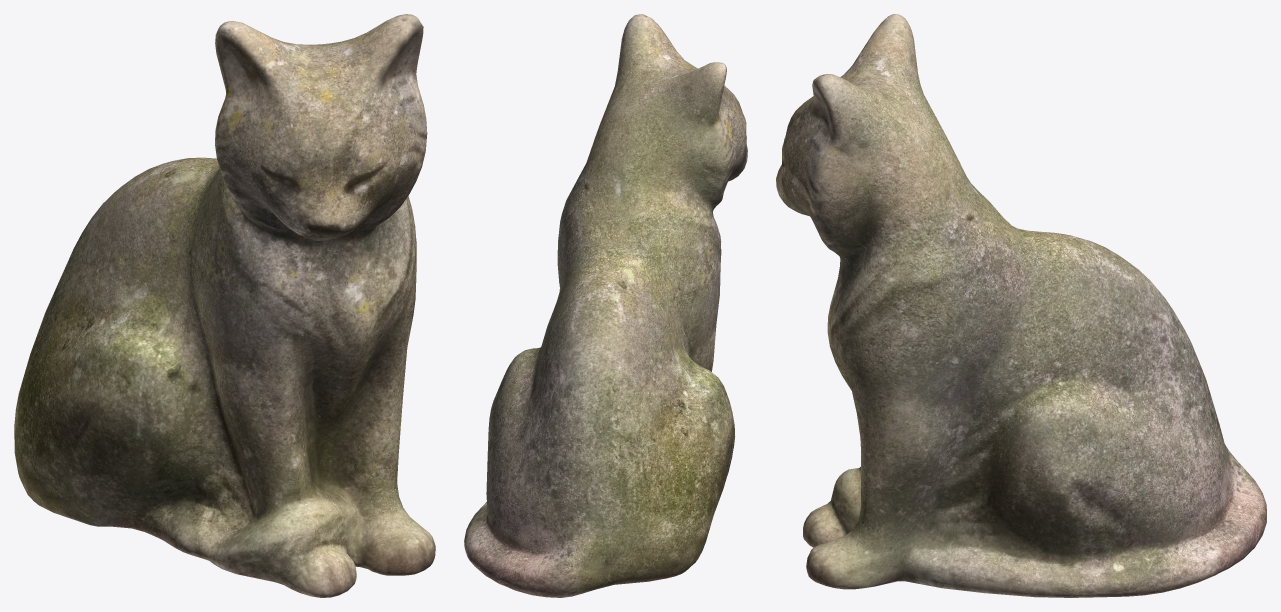
The model's file is concrete_cat_statue.glb.
3 views of the same model, side by side, from view 1: azimuth 30°, elevation 25°; view 2: azimuth 150°, elevation 25°; view 3: azimuth 270°, elevation 25° (orthographic). The views are drawn at different scales.
Parts seen in each view (by area): view 1: Retopo_Node 300000_008.002; view 2: Retopo_Node 300000_008.002; view 3: Retopo_Node 300000_008.002.
Part boxes in pixels (x1=…): Retopo_Node 300000_008.002: x1=14, y1=14, x2=435, y2=597; Retopo_Node 300000_008.002: x1=464, y1=14, x2=747, y2=597; Retopo_Node 300000_008.002: x1=776, y1=14, x2=1266, y2=597.
Bounding box in the file's own units: 0.153 × 0.283 × 0.25.
Materials: 1 (1 with a texture image).
